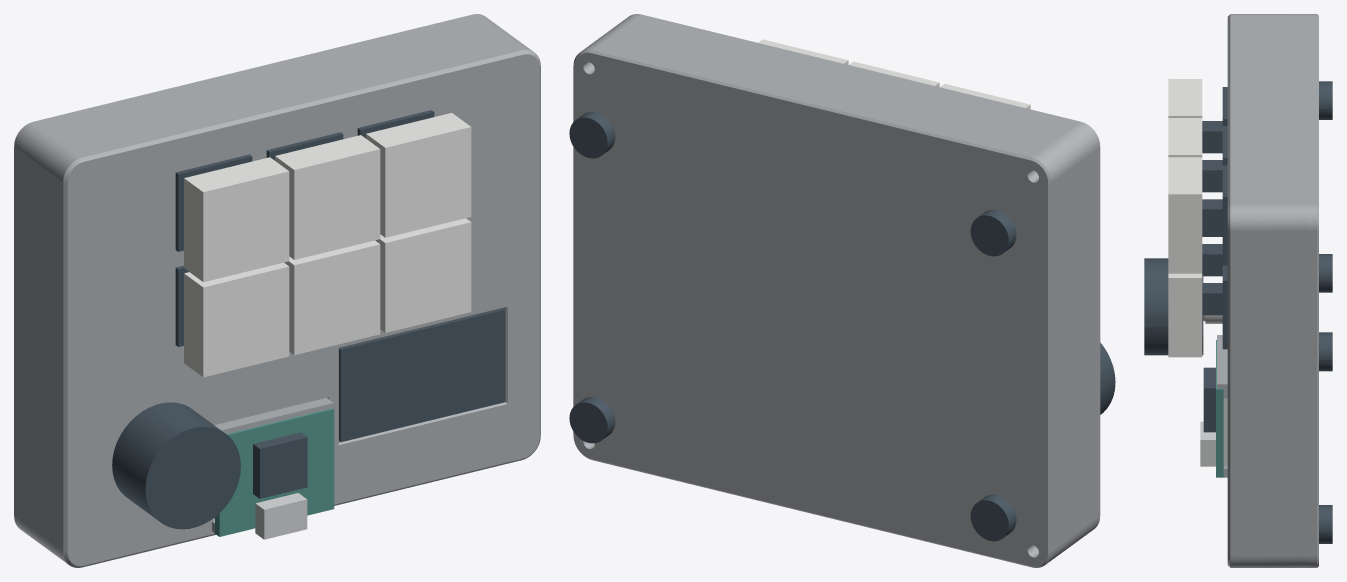
The model's file is .compact_model.step.glb.
3 renders of one model, left to right at view 1: azimuth 30°, elevation 25°; view 2: azimuth 150°, elevation 25°; view 3: azimuth 270°, elevation 25°, orthographic. The views are drawn at different scales.
Parts seen in each view (by area): view 1: o1.1, o1.30, o1.40, o1.18, o1.6, o1.22, o1.26, o1.10, o1.14, o1.31, o1.2, o1.32 (+6 smaller); view 2: o1.2, o1.1, o1.41, o1.43, o1.42, o1.44, o1.40; view 3: o1.1, o1.2, o1.26, o1.14, o1.40, o1.22, o1.18, o1.25, o1.13, o1.21, o1.17, o1.32 (+9 smaller).
Part boxes in pixels (<box>): o1.1: <box>19,18,540,567</box>; o1.30: <box>339,308,505,442</box>; o1.40: <box>112,402,240,529</box>; o1.18: <box>184,157,289,281</box>; o1.6: <box>184,262,289,377</box>; o1.22: <box>275,135,380,259</box>; o1.26: <box>366,113,471,237</box>; o1.10: <box>284,240,380,355</box>; o1.14: <box>375,218,471,332</box>; o1.31: <box>215,408,334,536</box>; o1.2: <box>14,14,489,531</box>; o1.32: <box>253,432,307,498</box>; o1.2: <box>573,46,1056,567</box>; o1.1: <box>586,14,1100,559</box>; o1.41: <box>970,494,1016,541</box>; o1.43: <box>970,209,1016,256</box>; o1.42: <box>569,396,615,443</box>; o1.44: <box>569,112,615,158</box>; o1.40: <box>1100,342,1115,414</box>; o1.1: <box>1227,14,1307,567</box>; o1.2: <box>1307,14,1318,567</box>; o1.26: <box>1168,157,1202,273</box>; o1.14: <box>1168,273,1202,357</box>; o1.40: <box>1144,258,1203,355</box>; o1.22: <box>1168,118,1202,157</box>; o1.18: <box>1168,79,1202,117</box>; o1.25: <box>1202,165,1227,265</box>; o1.13: <box>1202,265,1227,349</box>; o1.21: <box>1202,126,1227,192</box>; o1.17: <box>1202,87,1227,153</box>; o1.32: <box>1203,367,1215,432</box>.
Bounding box in the file's own units: 0.1 × 0.082 × 0.0387.
